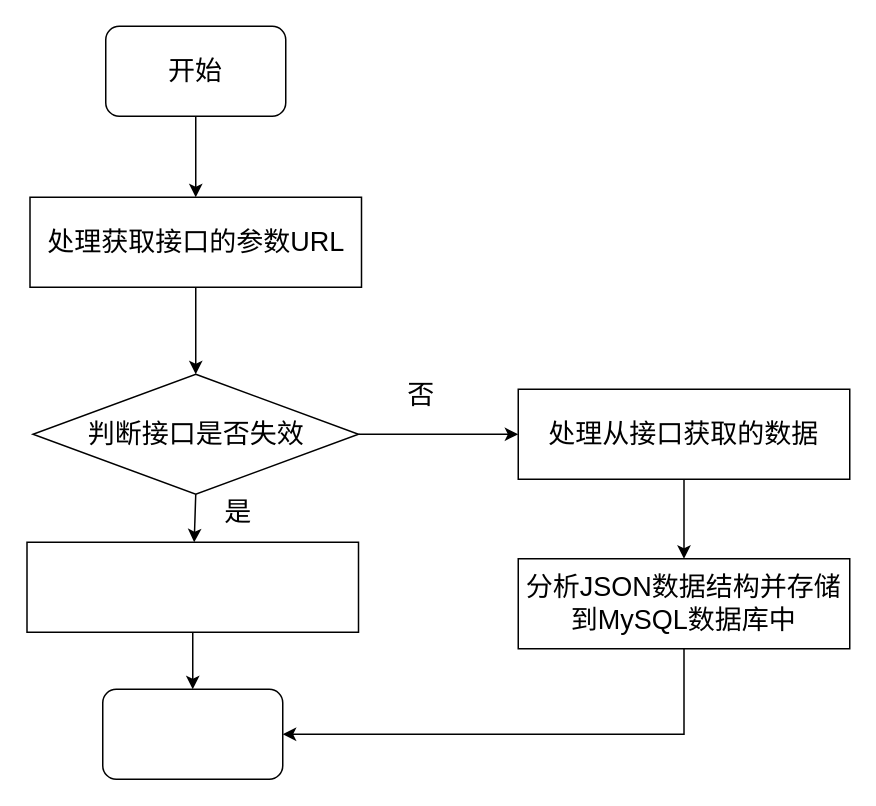
Some shapes in this 876 by 806 pixel diagram are drawn without their labels. The shapes that lost their labels are listed below. From the top down, each one's box as (x1, y1, x2, y2) in pixels, then its label:
(26, 541, 358, 632): 进行报错处理
(101, 688, 283, 779): 结束
